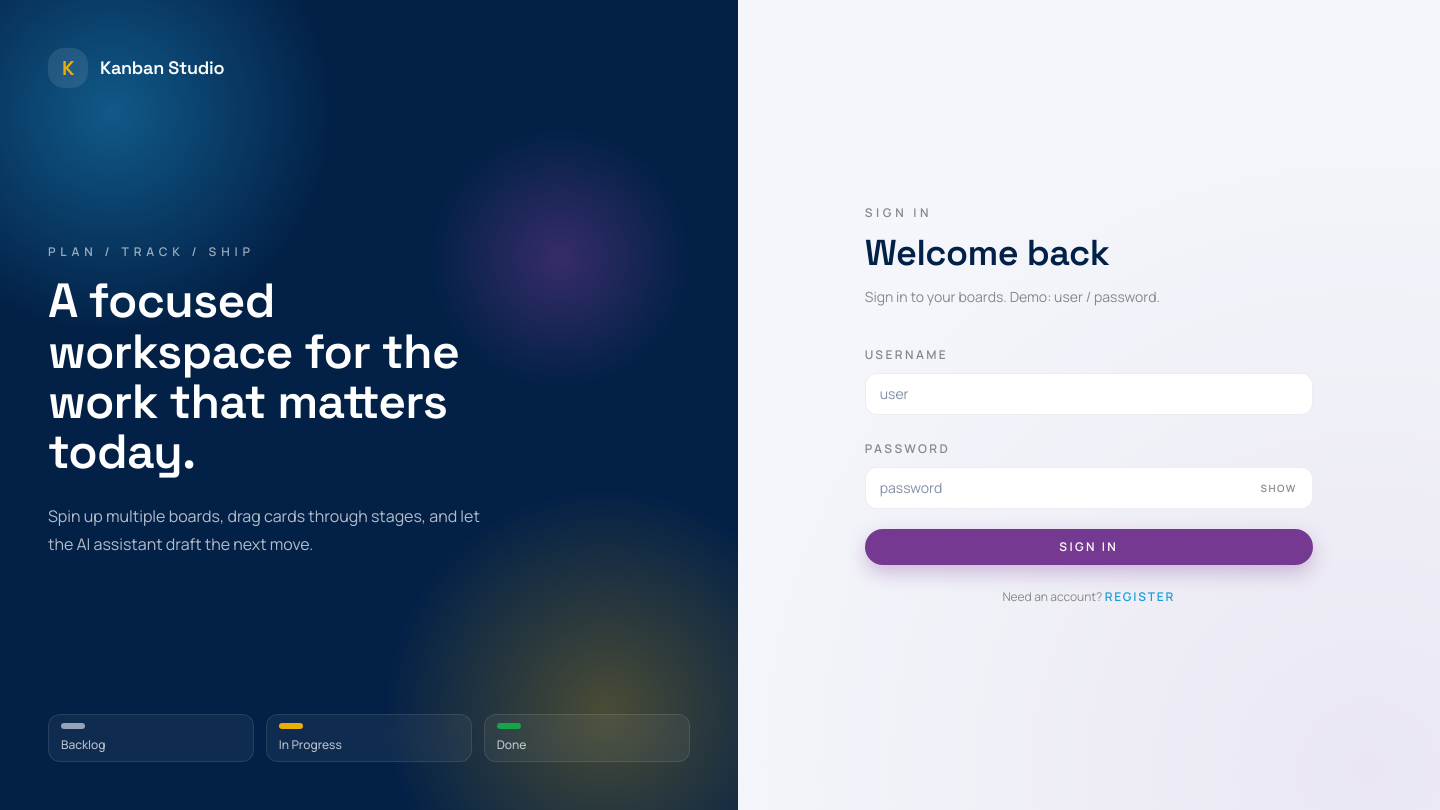
Test: AuthShell › shows the server's error message on bad credentials
The width and height of the screenshot is (1440, 810).
Expected: the button "Sign in" is shown, [865,529,1313,565]
Type "wrong" into the field labelled "Username" at (1089, 394), box [865,373,1313,415]
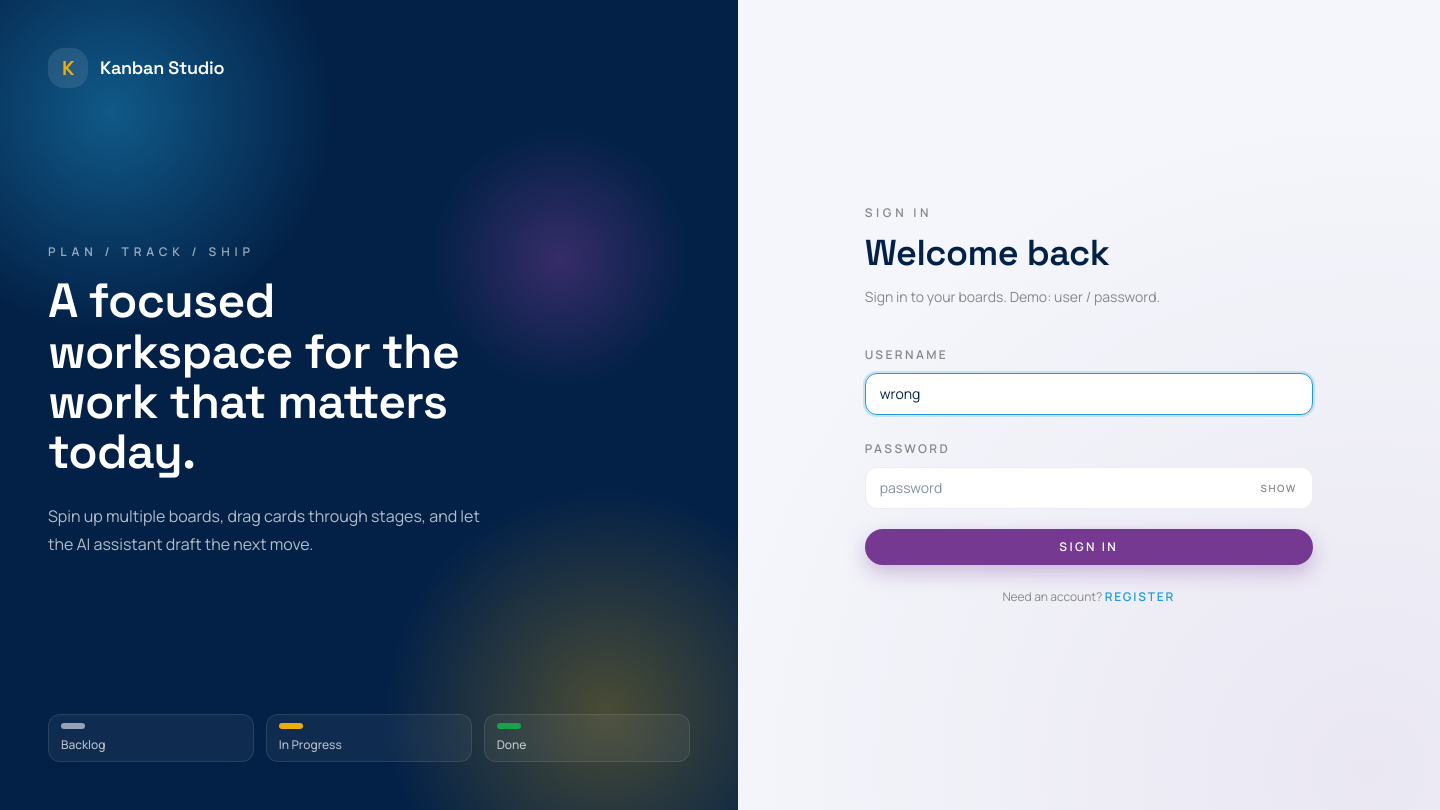
Type "credentials" into the password field labelled "Password" at (1089, 488), box [865,467,1313,509]
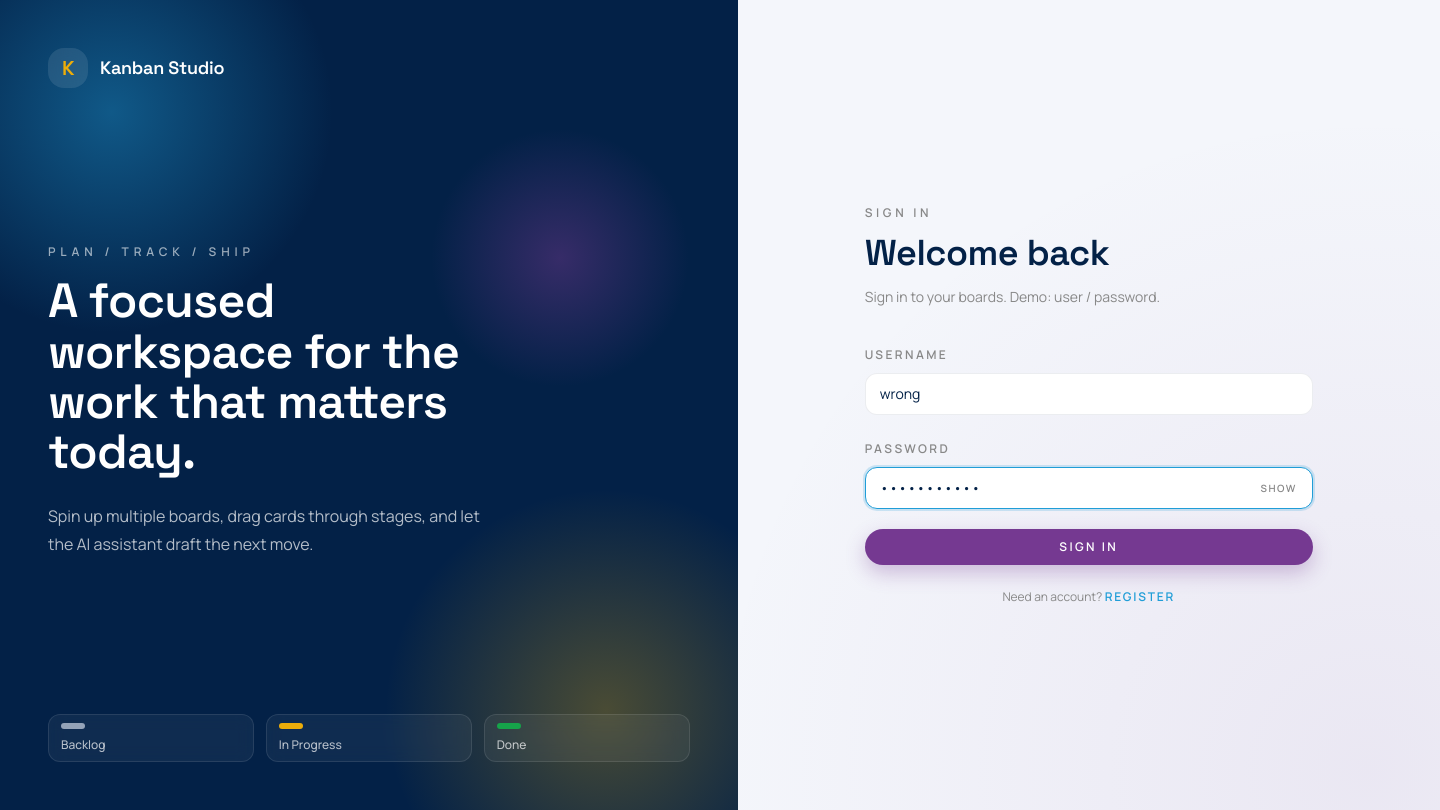
Click the button "Sign in" at (1089, 547), box [865,529,1313,565]
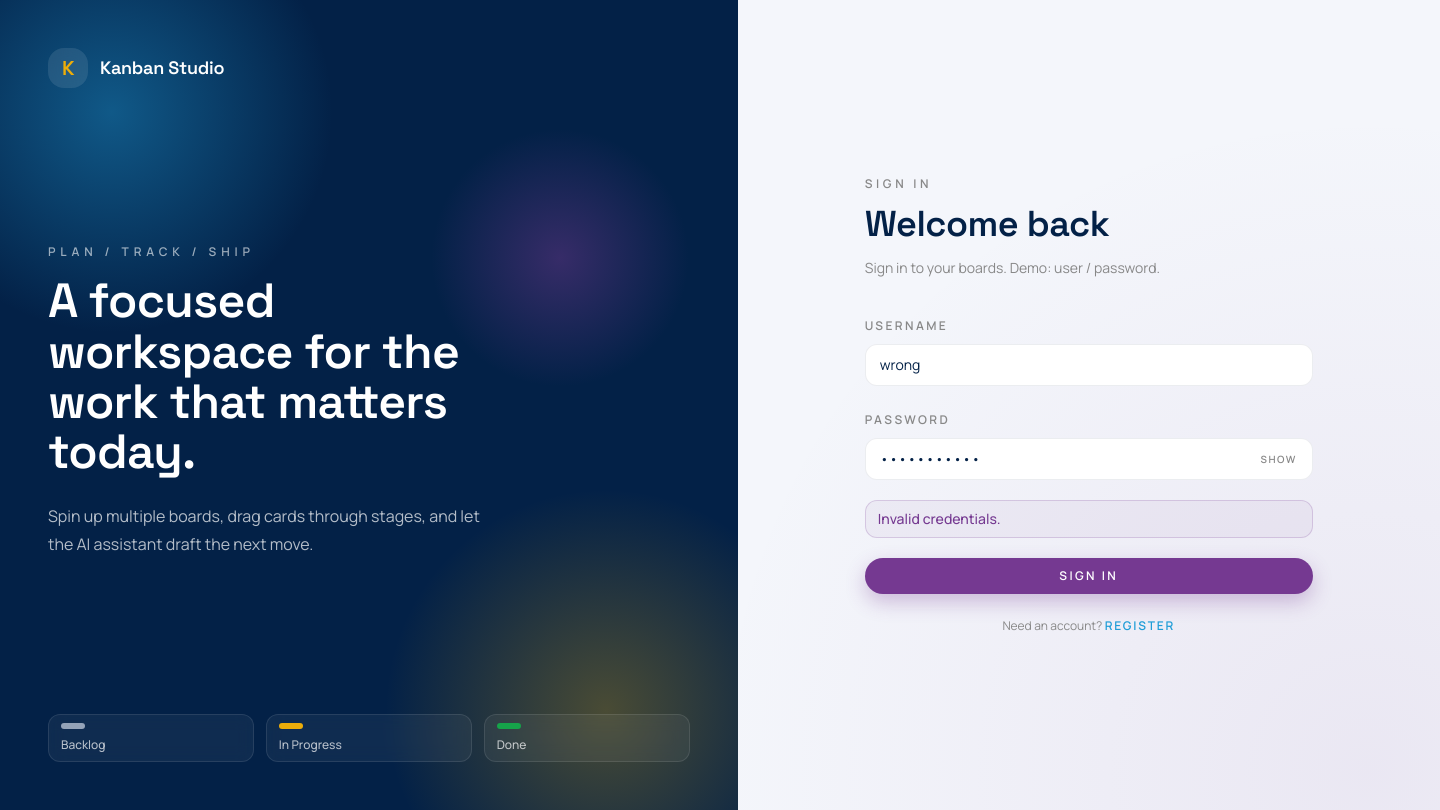
Result: the message shows "Invalid credentials" at [878,509,1001,528]
